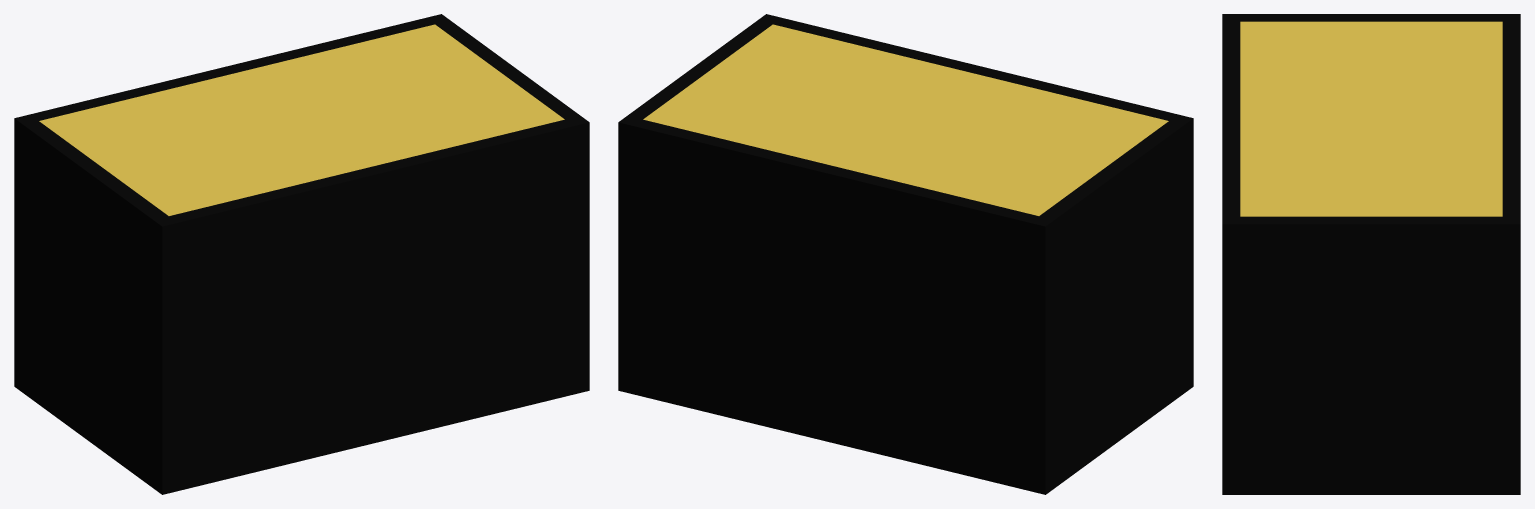
Rendered from Lamba.fbx.
3 renders of one model, left to right at view 1: azimuth 30°, elevation 25°; view 2: azimuth 150°, elevation 25°; view 3: azimuth 270°, elevation 25°, orthographic.
Parts seen in each view (by area): view 1: Cube.016; view 2: Cube.016; view 3: Cube.016.
Part boxes in pixels (left/top/right/bottom): Cube.016: left=14, top=14, right=589, bottom=494; Cube.016: left=618, top=14, right=1193, bottom=494; Cube.016: left=1222, top=14, right=1520, bottom=494.
Bounding box in the file's own units: 50 × 30 × 30.
